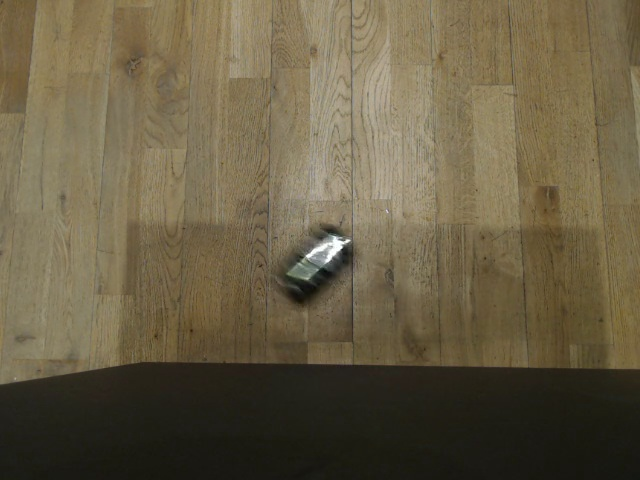beer: (269, 222, 356, 309)
